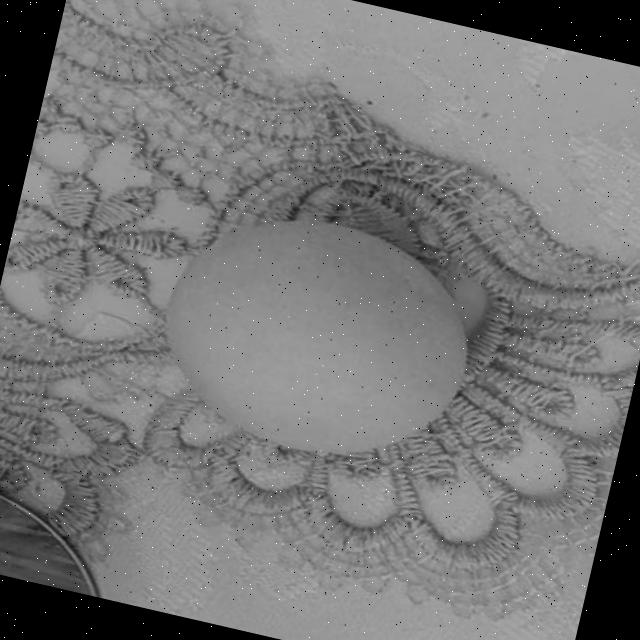ping-pong-ball: (148, 194, 488, 480)
